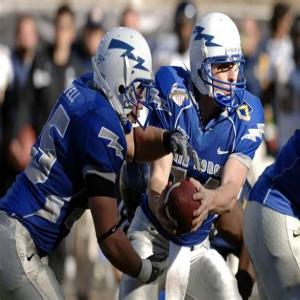Rugby: (162, 181, 202, 237)
